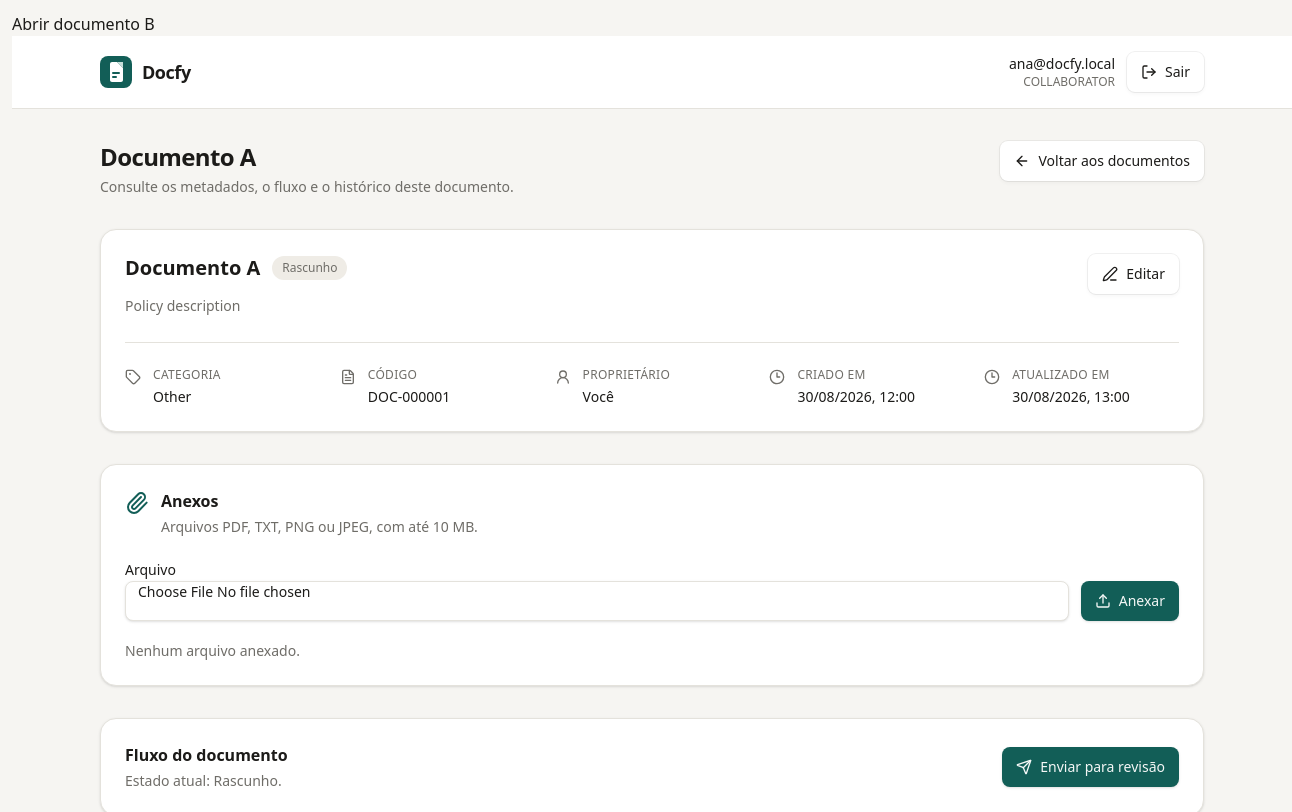
Test: DocumentDetailPage loading and detail › does not keep document A visible when route B returns 404
Expected: the heading "Documento A" in the row of "Voltar aos documentos" is shown, top-left (100, 140), bottom-right (256, 173)
Click the link "Abrir documento B": [83, 24] box top-left (12, 13), bottom-right (154, 35)
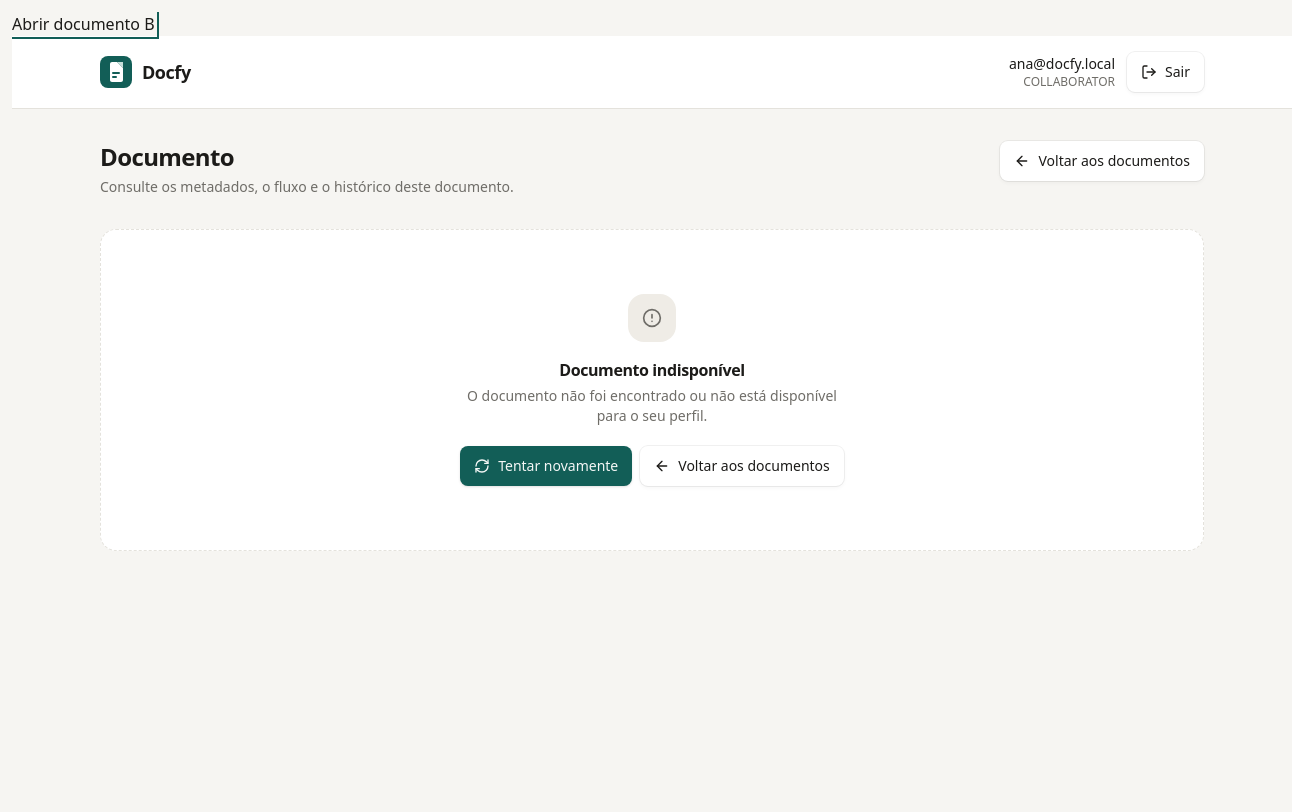
Result: the text "O documento não foi encontrado ou não está disponível para o seu perfil." is shown at top-left (460, 386), bottom-right (844, 426)
Result: the heading "Documento A" is gone
Result: the text "Policy description" is gone
